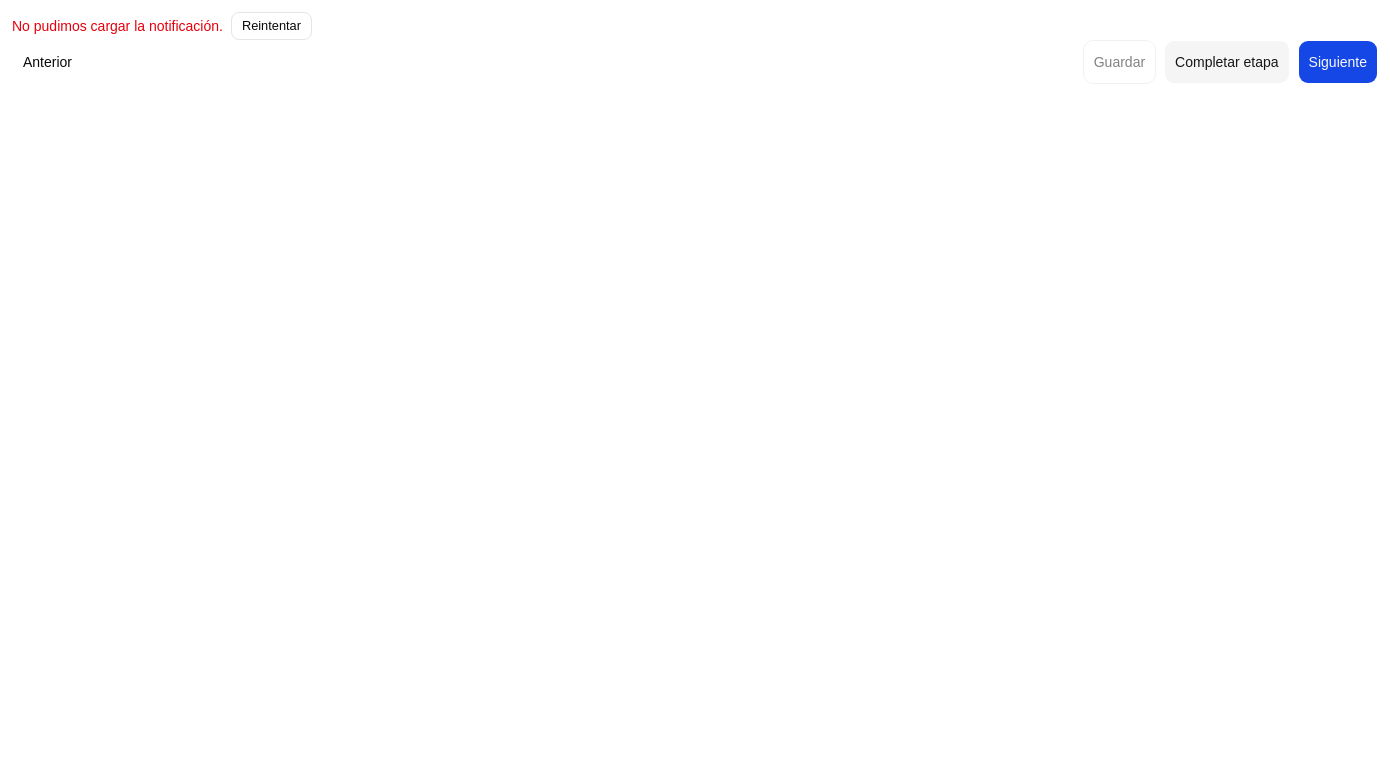
Test: NotificationStep — error de carga (SPEC FE12a §3.6, §4 paso 15) › con un 006 fallido, muestra el mensaje y un botón de reintentar que recupera la pantalla
The image size is (1390, 779).
Expected: the text "No pudimos cargar la notificación." is shown, 12,16 -> 223,36
Click the button "Reintentar" at (271, 26), box 231,12 -> 312,40
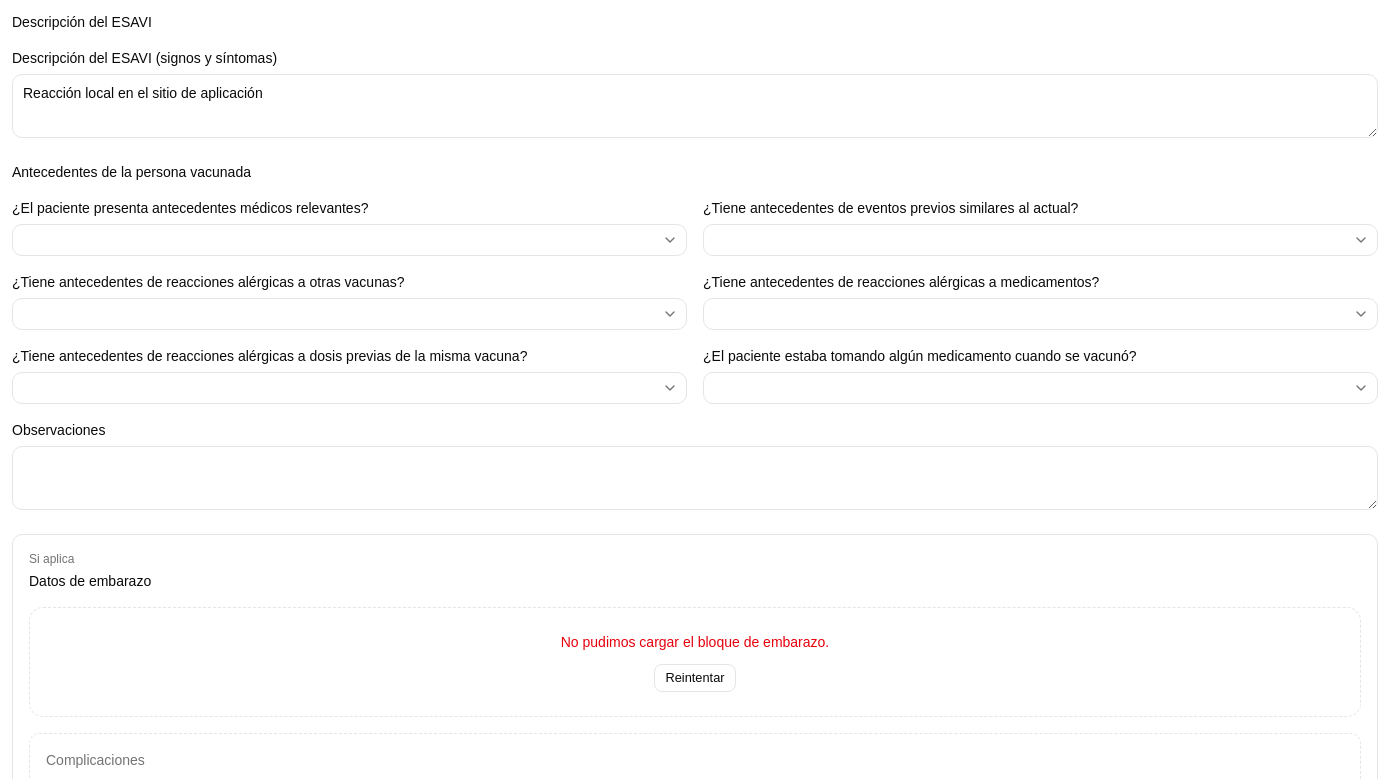
Expected: the text box labelled "Descripción del ESAVI (signos y síntomas)" holds "Reacción local en el sitio de aplicación", 12,74 -> 1378,138
Expected: the text "No pudimos cargar la notificación." is gone
